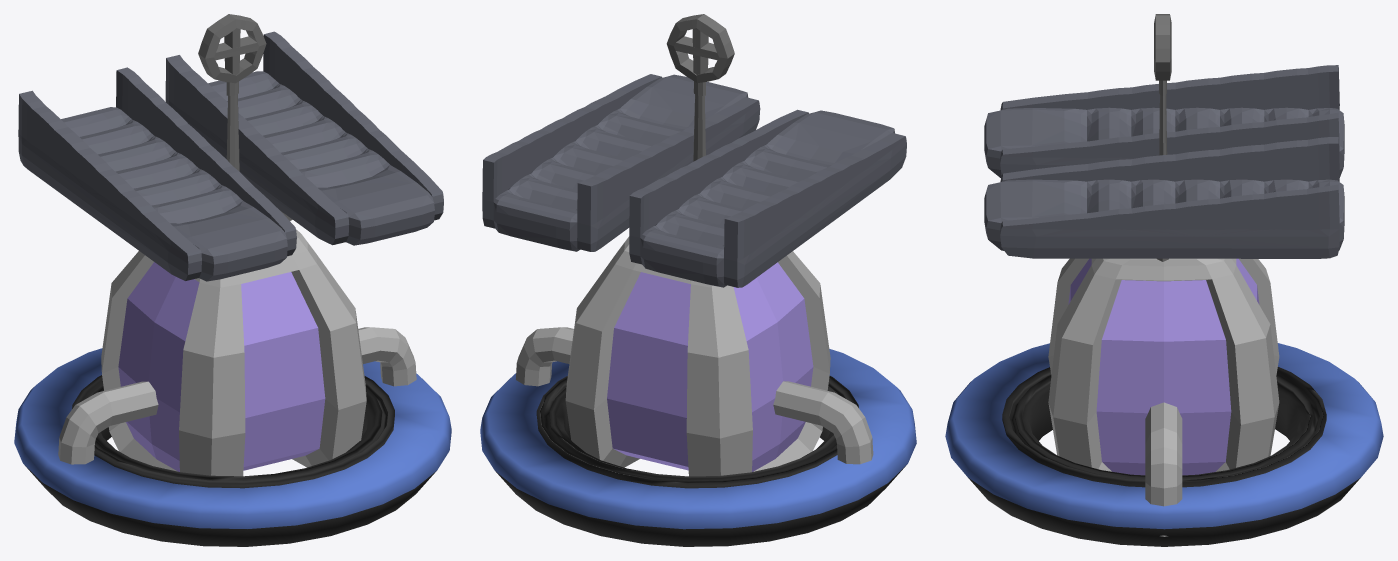
File: rocketlauncher_level5.fbx
3 views of the same model, side by side, from view 1: azimuth 30°, elevation 25°; view 2: azimuth 150°, elevation 25°; view 3: azimuth 270°, elevation 25° (orthographic).
Parts seen in each view (by area): view 1: powersupply_big, base, settlement_place.006, settlement_place.005, pipe_right, focus_point, pipe_left, focus_point_bottom; view 2: powersupply_big, base, settlement_place.006, settlement_place.005, pipe_right, focus_point, pipe_left, focus_point_bottom; view 3: powersupply_big, base, settlement_place.005, settlement_place.006, pipe_left, focus_point, focus_point_bottom.
Boxes of the visible parts, <box> form: powersupply_big: <box>101,229,366,476</box>; base: <box>14,348,451,546</box>; settlement_place.006: <box>18,67,296,281</box>; settlement_place.005: <box>165,31,443,245</box>; pipe_right: <box>58,381,158,464</box>; focus_point: <box>198,14,266,83</box>; pipe_left: <box>358,327,416,386</box>; focus_point_bottom: <box>226,81,239,171</box>; powersupply_big: <box>565,236,830,476</box>; base: <box>480,349,916,546</box>; settlement_place.006: <box>629,109,906,287</box>; settlement_place.005: <box>482,74,760,251</box>; pipe_right: <box>773,381,873,464</box>; focus_point: <box>666,14,734,83</box>; pipe_left: <box>516,327,573,386</box>; focus_point_bottom: <box>693,81,705,161</box>; powersupply_big: <box>1048,258,1279,475</box>; base: <box>945,343,1383,546</box>; settlement_place.005: <box>984,137,1344,258</box>; settlement_place.006: <box>984,65,1344,177</box>; pipe_left: <box>1145,402,1182,536</box>; focus_point: <box>1154,14,1171,80</box>; focus_point_bottom: <box>1159,80,1167,155</box>.
Bounding box in the file's own units: 75.6 × 85.3 × 75.6.
